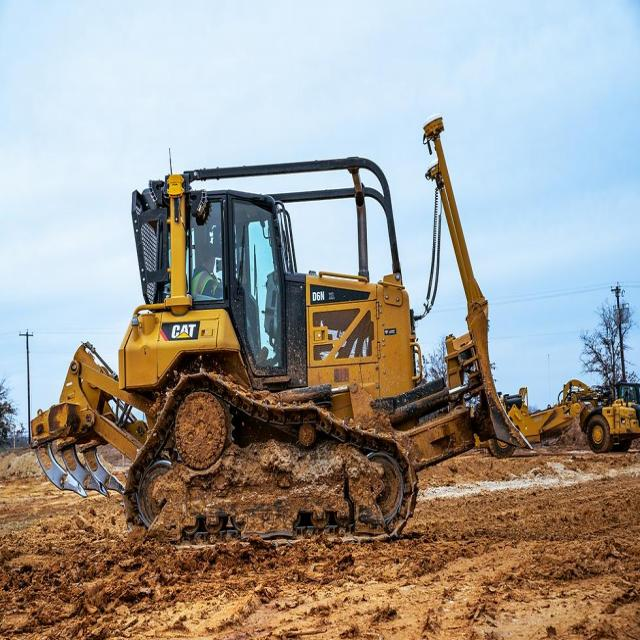Bulldozer: (22, 111, 591, 556)
